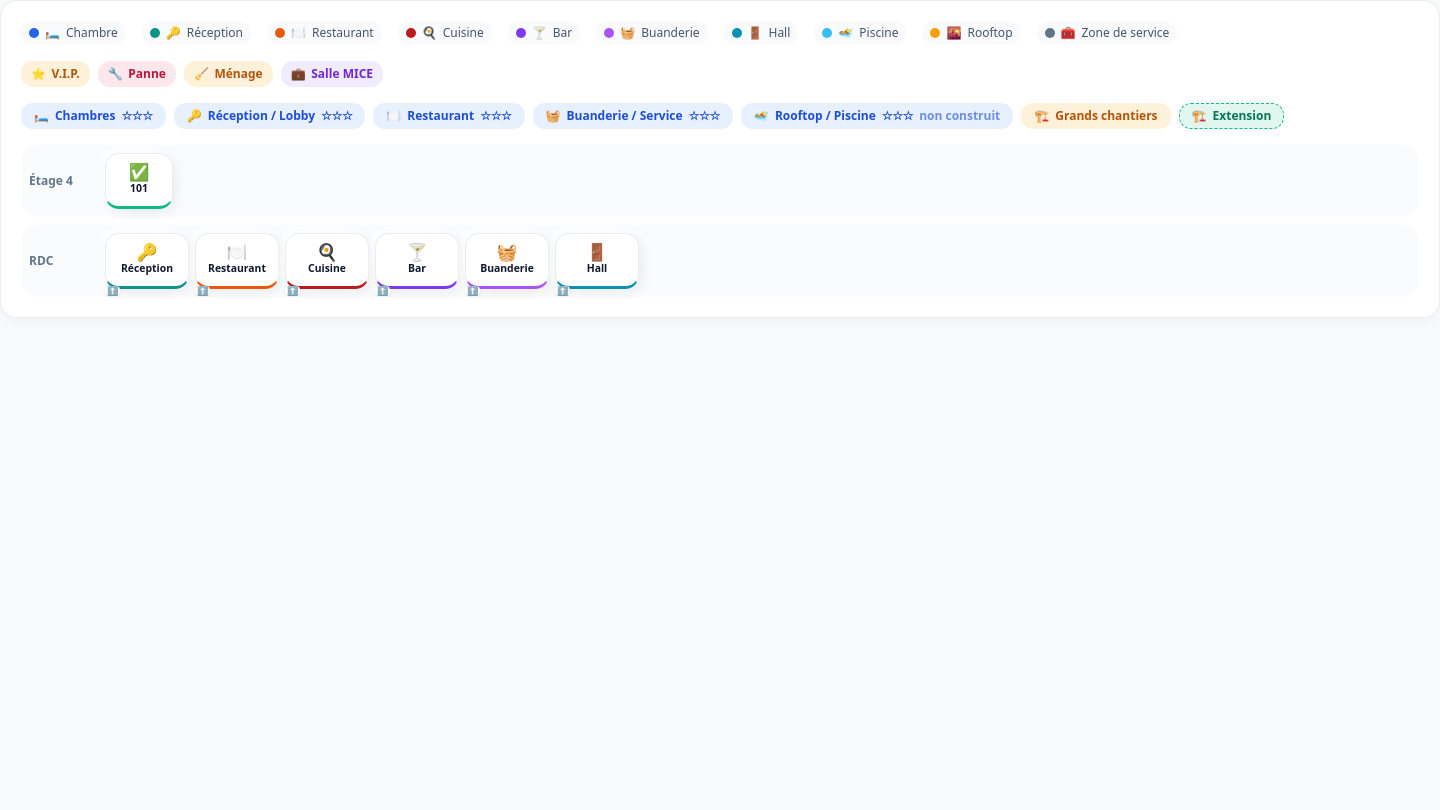
SchematicHotelView / opening the upgrade modal › clicking a zone chip opens the modal on that zone
Click the button with test id "schematic-zone-laundry" at (633, 116), box [533,103,733,129]
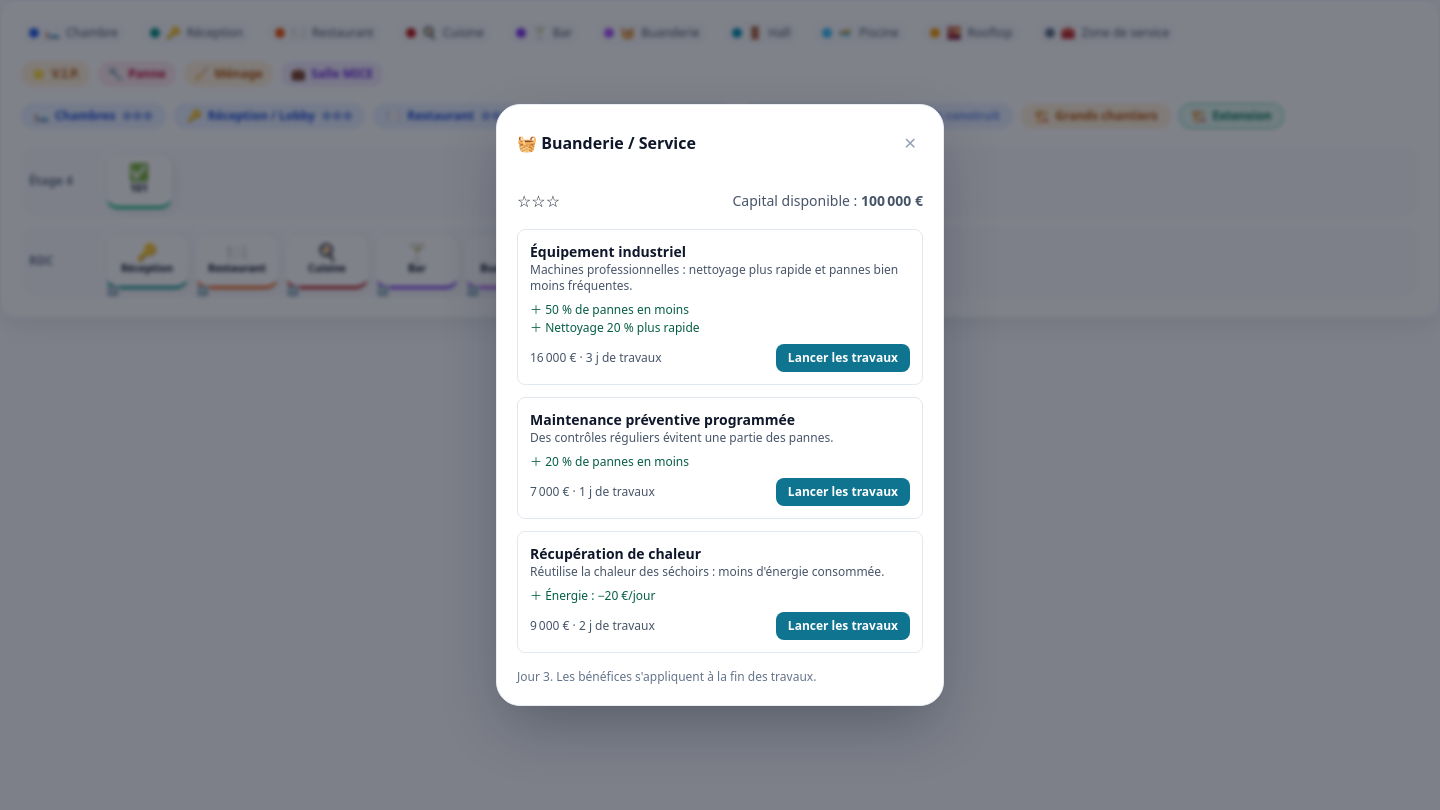
Check: the dialog "Buanderie" is shown
Check: the list item with test id "upgrade-laundry-industrial" is shown, box [517,229,923,385]
